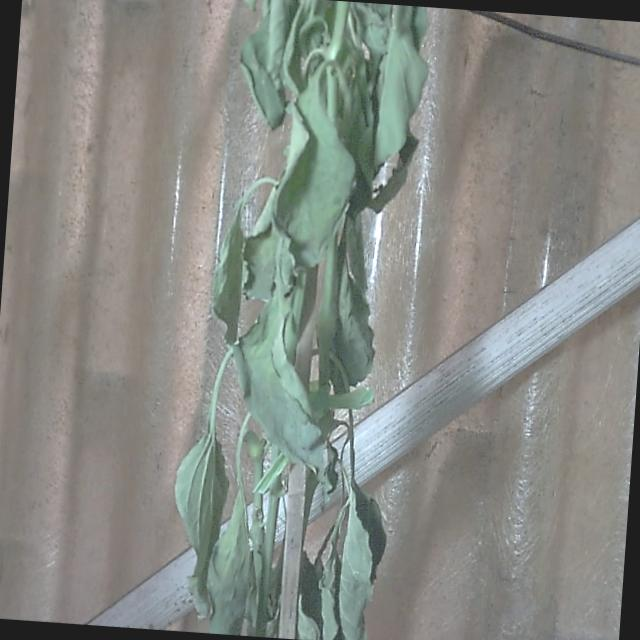Leaf: (267, 80, 359, 280), (234, 307, 337, 462), (162, 428, 234, 618), (369, 3, 432, 175), (334, 479, 394, 640)
